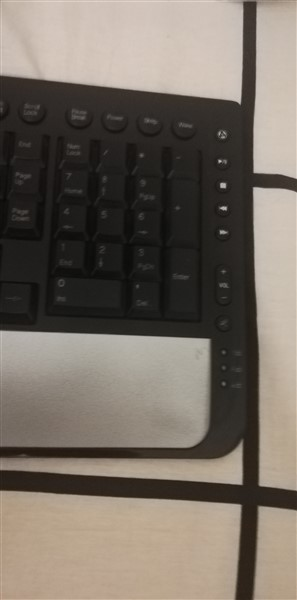klavye: (1, 72, 251, 460)
